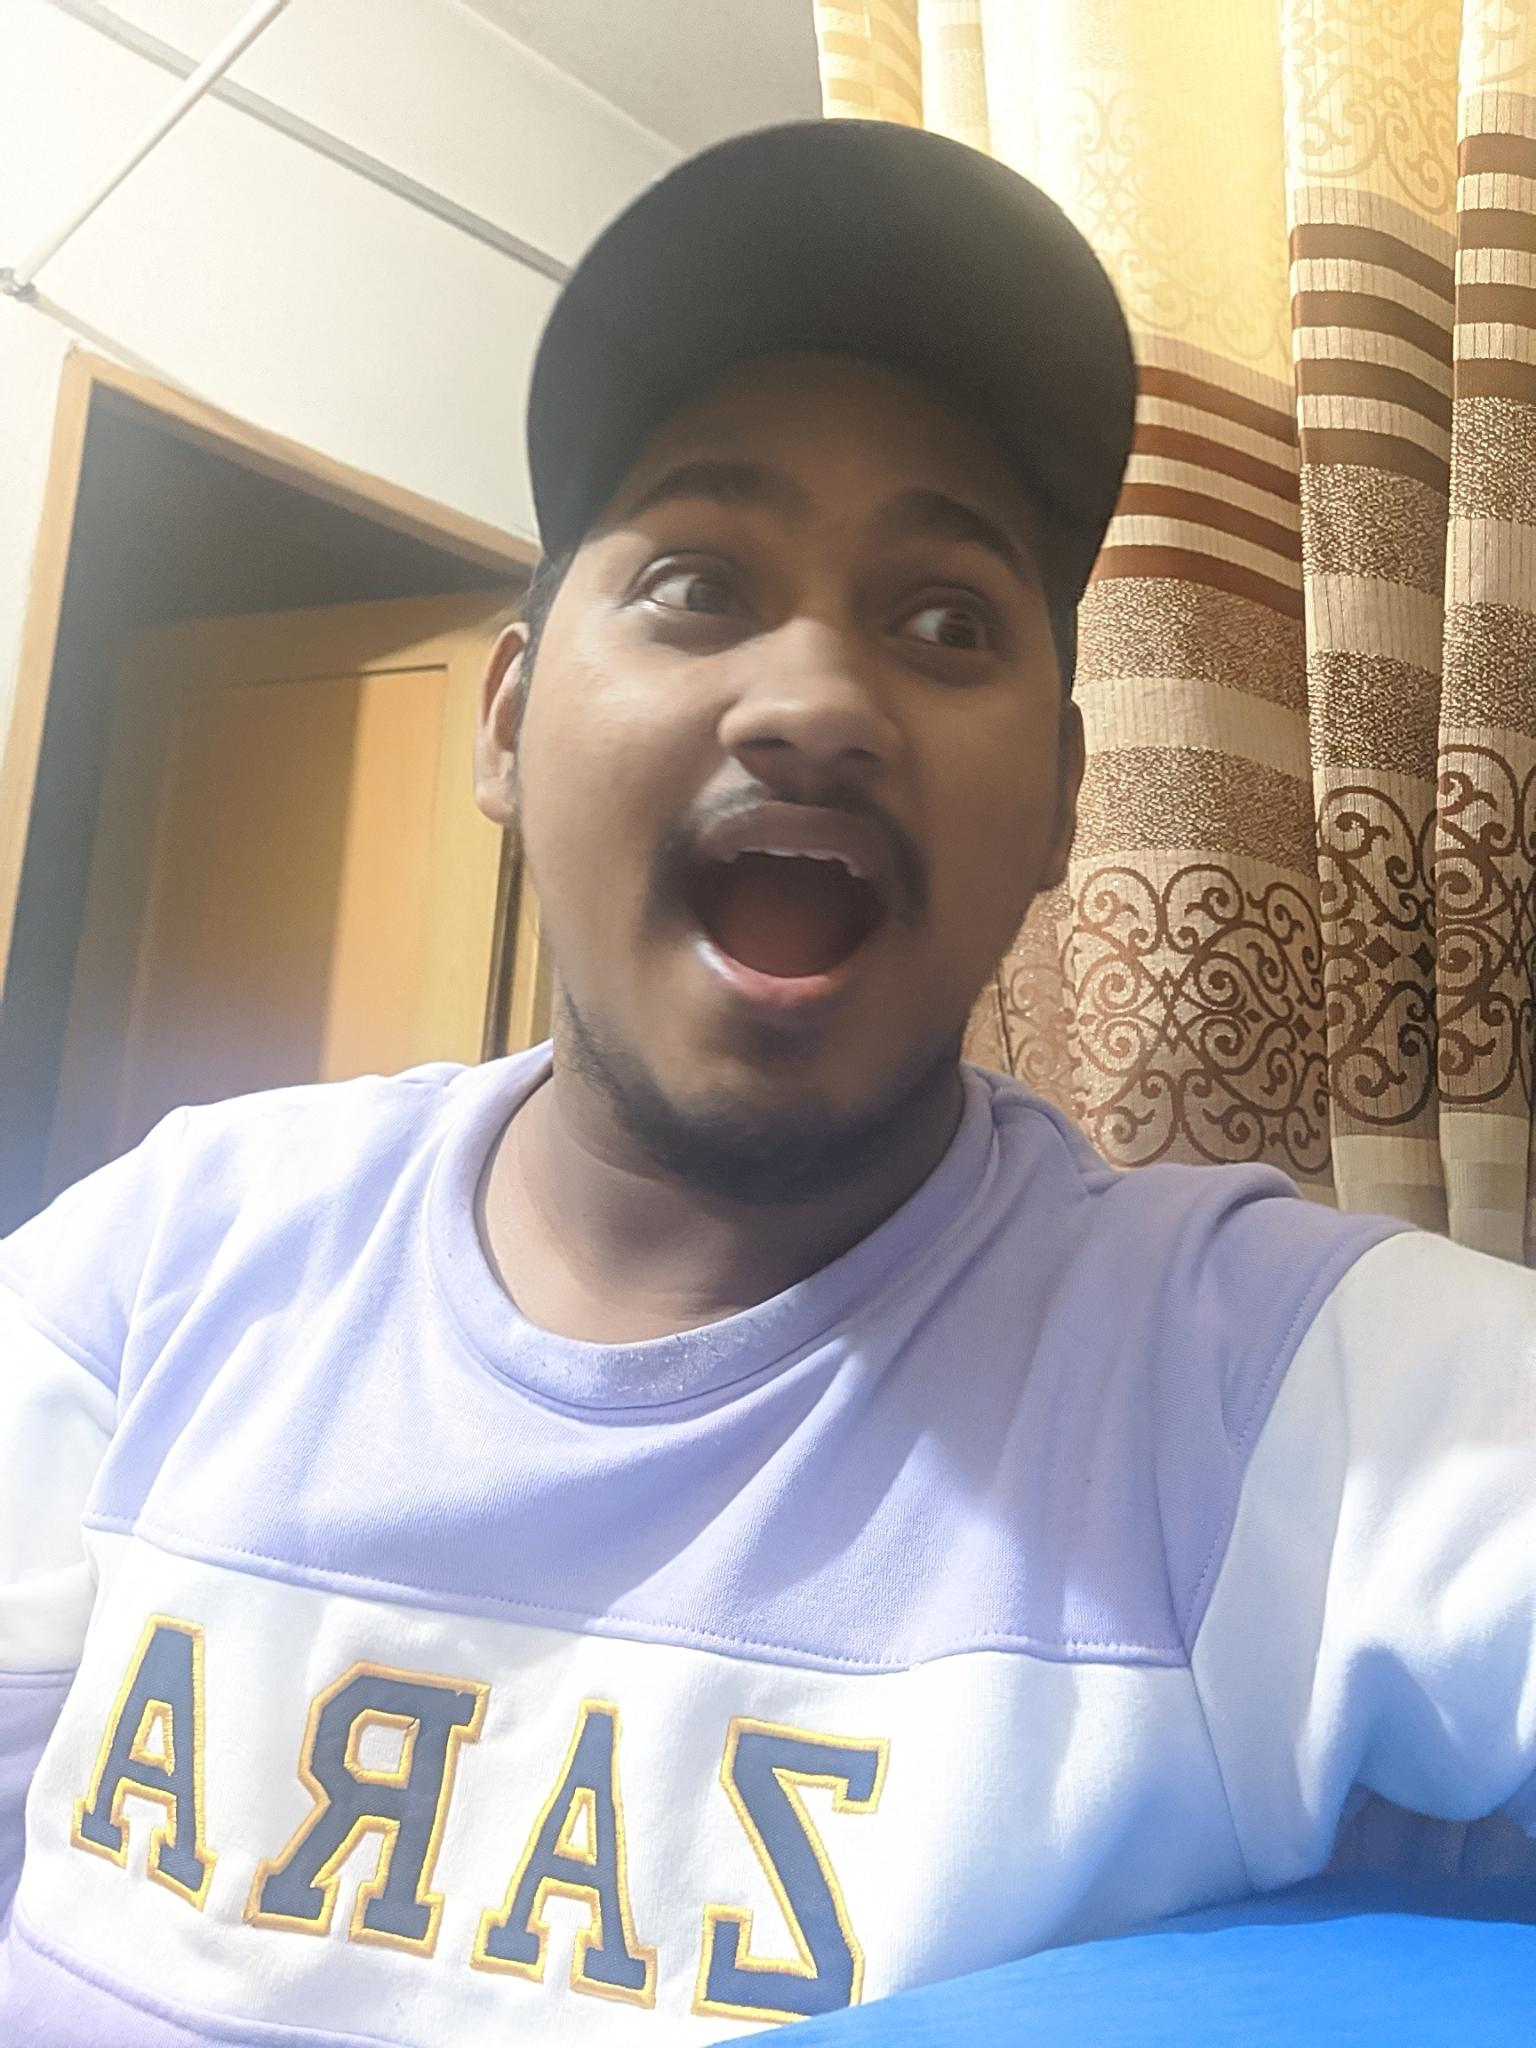Surprise: (518, 366, 1097, 1184)
